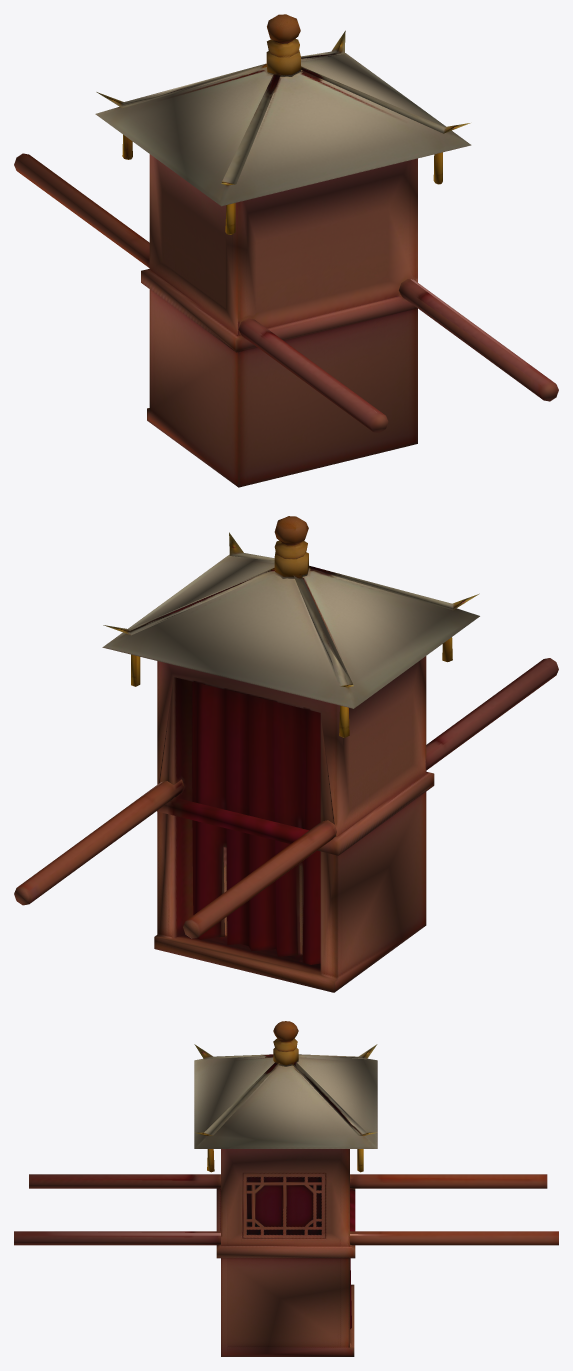
File: jiaozi.fbx
The picture shows the model from 3 angles, top to bottom: view 1: azimuth 30°, elevation 25°; view 2: azimuth 150°, elevation 25°; view 3: azimuth 270°, elevation 25°; orthographic projection. The views are drawn at different scales.
Parts seen in each view (by area): view 1: tripo_node_4540e70a; view 2: tripo_node_4540e70a; view 3: tripo_node_4540e70a.
Boxes of the visible parts, bbox=[...] form: tripo_node_4540e70a: bbox=[14, 14, 558, 487]; tripo_node_4540e70a: bbox=[14, 516, 558, 992]; tripo_node_4540e70a: bbox=[14, 1021, 558, 1356].
Bounding box in the file's own units: 38.48 × 99.8 × 61.13.
Materials: 1 (1 with a texture image).
